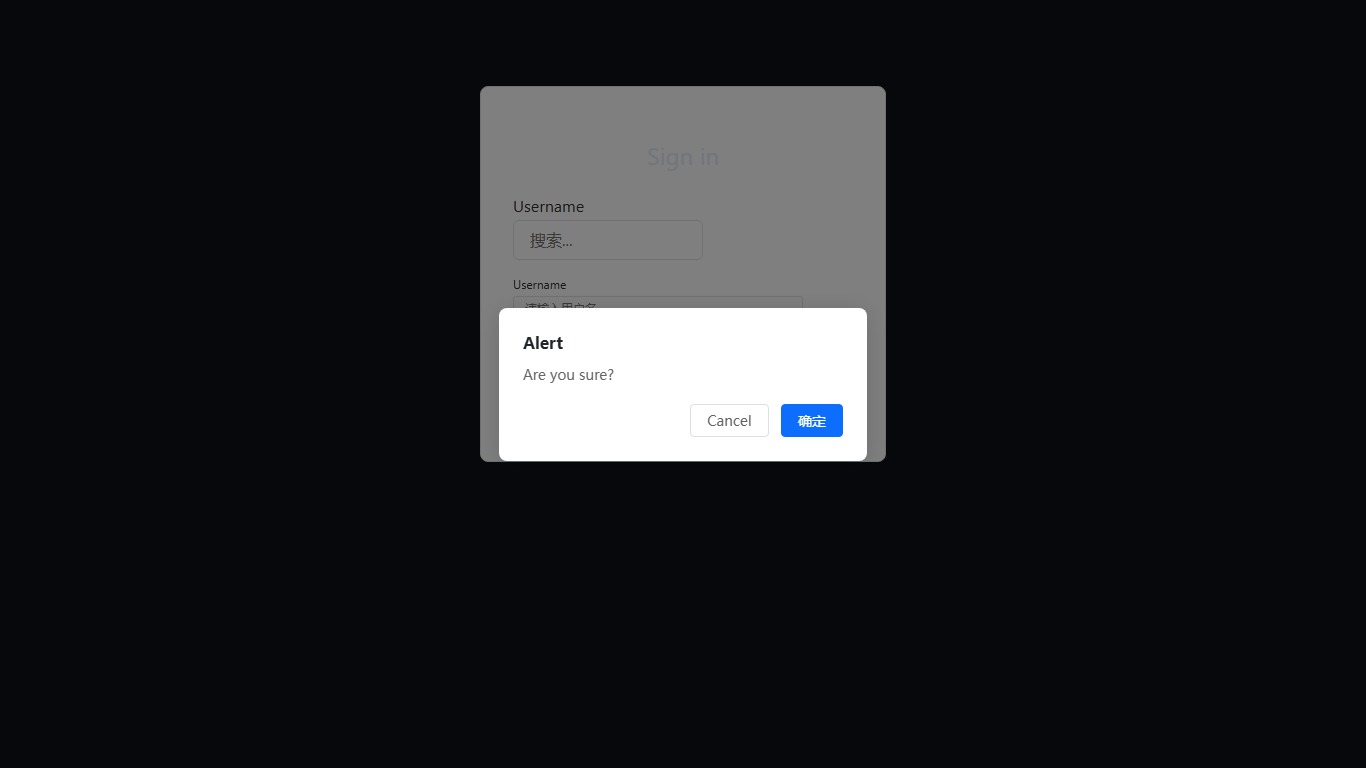button: (690, 403, 769, 437), (781, 403, 843, 437), (513, 374, 559, 396)
checkbox: (513, 337, 529, 353)
icon: (537, 336, 593, 355)
input: (513, 220, 703, 260), (513, 296, 803, 320)
link: (628, 410, 738, 429)
modal: (0, 0, 1366, 768)
radio: (513, 336, 593, 355)
